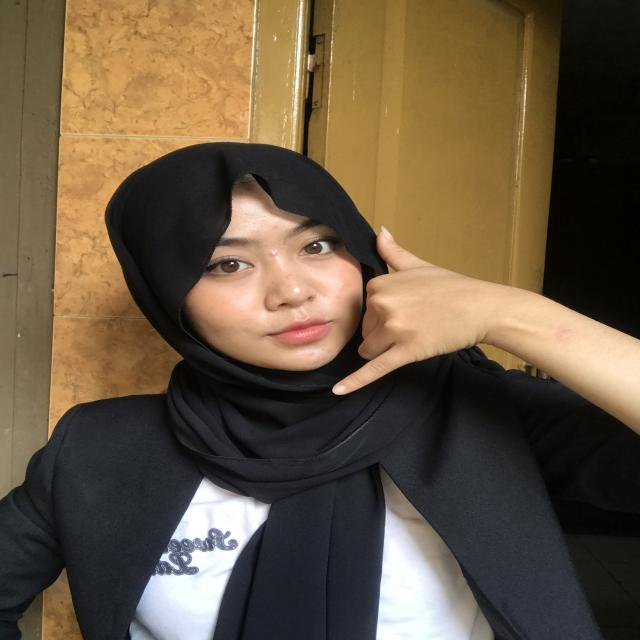telpon: (314, 207, 486, 404)
